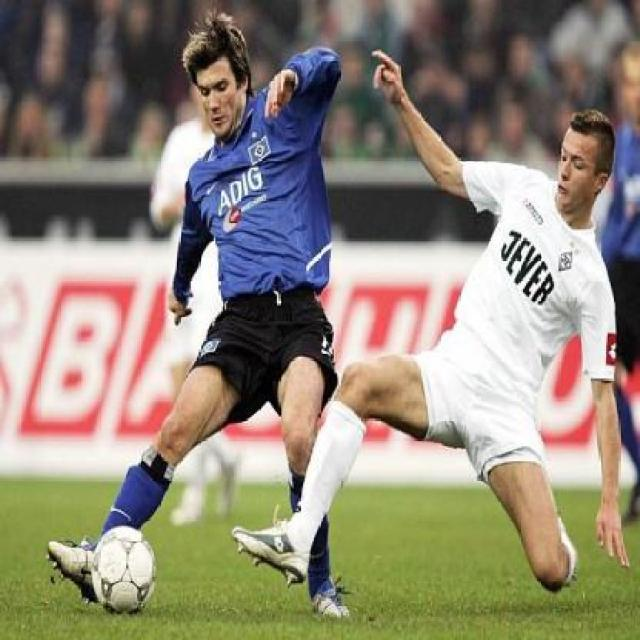ball: (89, 524, 157, 618)
player: (225, 60, 634, 589), (60, 16, 346, 622)
